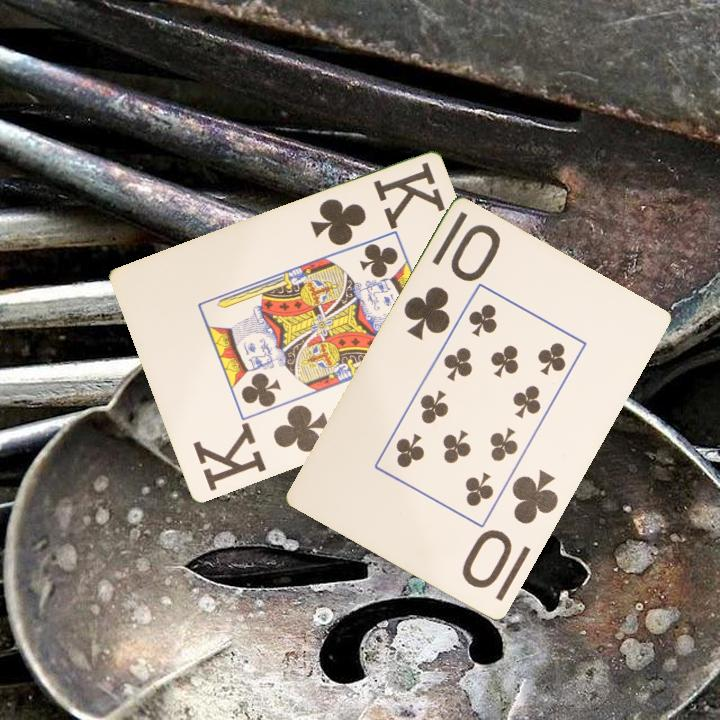10c: (458, 466, 562, 593), (399, 221, 503, 344)
Kc: (189, 401, 333, 495), (306, 159, 447, 249)
